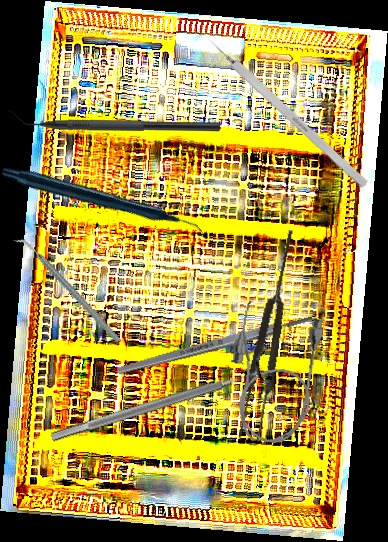Cannula: (220, 299, 327, 448)
Chopper: (13, 216, 122, 364), (8, 108, 220, 132)
Fixation Ring: (46, 349, 275, 454)
Handpiece: (0, 96, 206, 311)
Hook Surgical: (198, 29, 369, 189)
Scalpel Handle: (116, 312, 314, 377)
Tissue Forceps: (235, 227, 305, 443)
